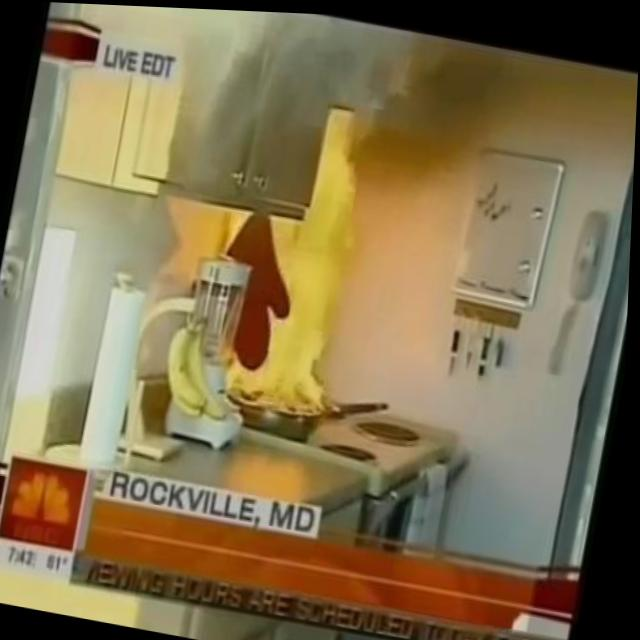fire: (223, 170, 365, 416)
